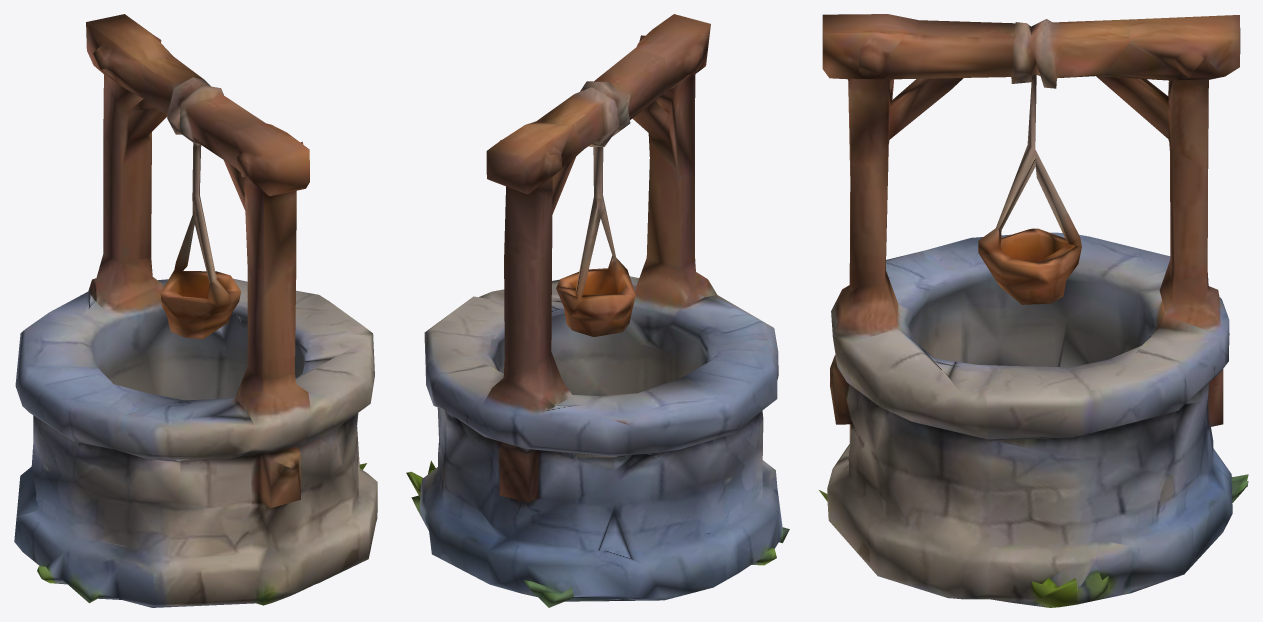
File: well.glb
3 renders of one model, left to right at view 1: azimuth 30°, elevation 25°; view 2: azimuth 150°, elevation 25°; view 3: azimuth 270°, elevation 25°, orthographic. The views are drawn at different scales.
Visible parts, largest first — view 1: tripo_node_4498842b-6c0c-4b68-bfe9-095971ad512d; view 2: tripo_node_4498842b-6c0c-4b68-bfe9-095971ad512d; view 3: tripo_node_4498842b-6c0c-4b68-bfe9-095971ad512d.
Boxes of the visible parts, x1=… form: tripo_node_4498842b-6c0c-4b68-bfe9-095971ad512d: x1=14, y1=14, x2=377, y2=607; tripo_node_4498842b-6c0c-4b68-bfe9-095971ad512d: x1=406, y1=14, x2=789, y2=607; tripo_node_4498842b-6c0c-4b68-bfe9-095971ad512d: x1=819, y1=14, x2=1248, y2=607.
Bounding box in the file's own units: 0.7055 × 0.8996 × 0.691.
Materials: 1 (1 with a texture image).
